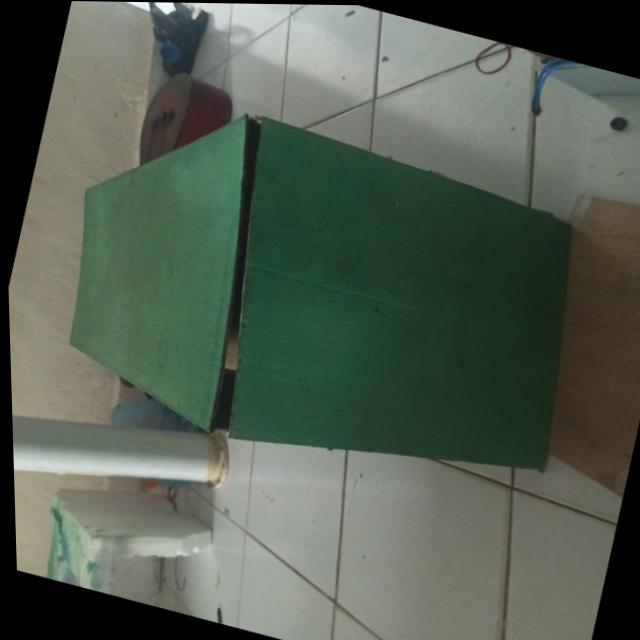green_box: (1, 62, 627, 530)
